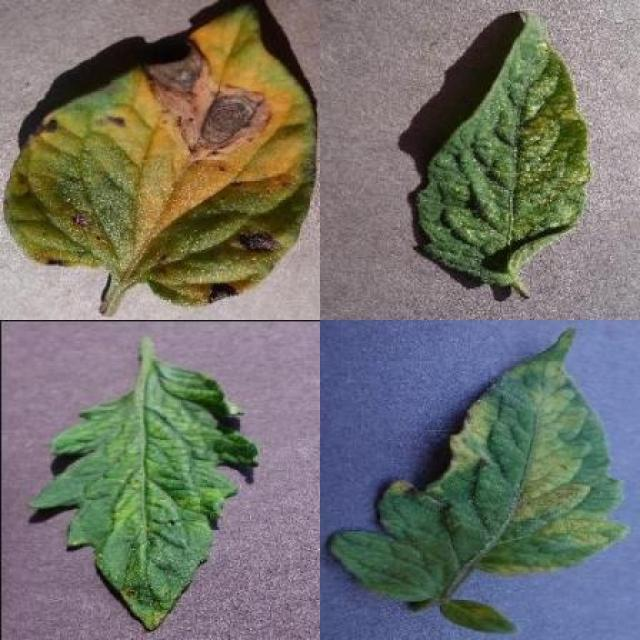Early Blight: (3, 3, 316, 310)
Leaf Mold: (333, 325, 630, 599)
Mosaic Virus: (25, 360, 259, 634)
Spider Mites: (417, 12, 593, 287)
